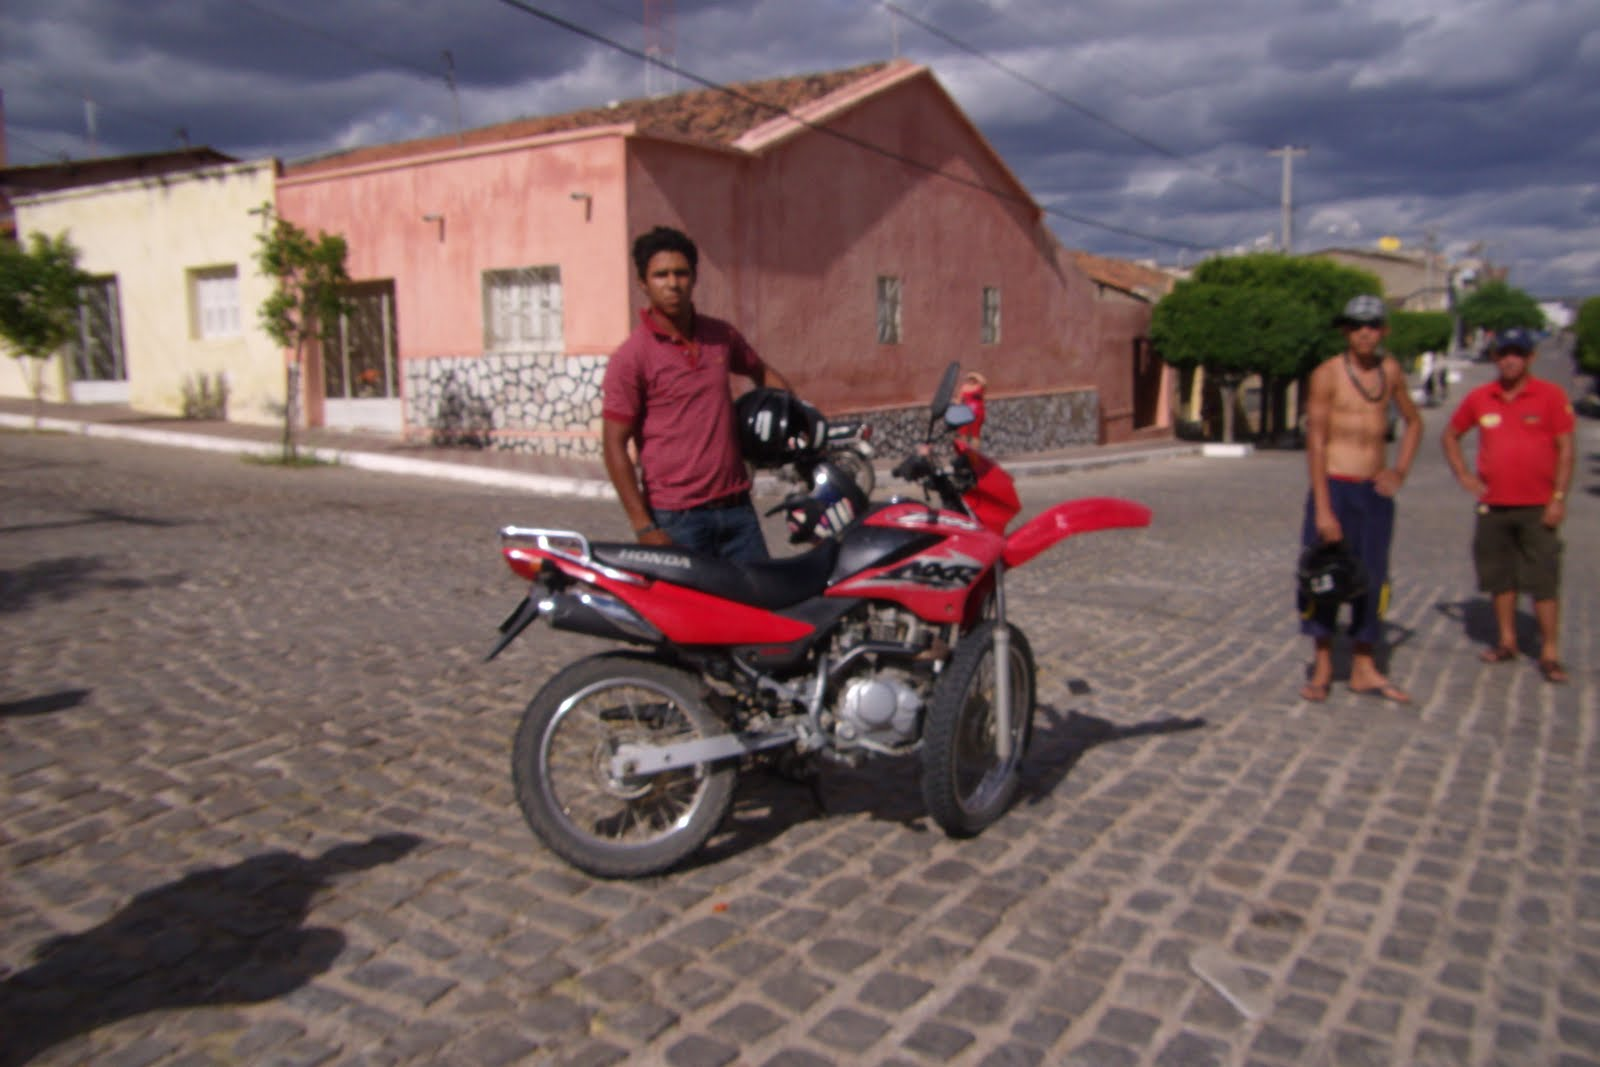Humano: (595, 221, 798, 559), (1308, 285, 1412, 706), (1462, 306, 1576, 683)
